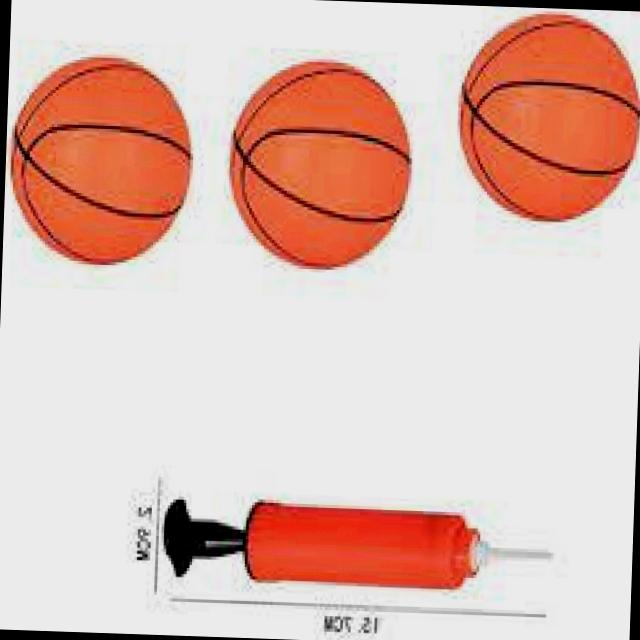ball: (211, 51, 423, 276), (2, 50, 203, 272), (447, 6, 640, 229)
